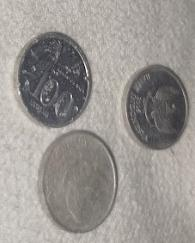coin_100_e1999: (35, 128, 120, 235), (15, 29, 97, 131), (120, 64, 191, 156)
